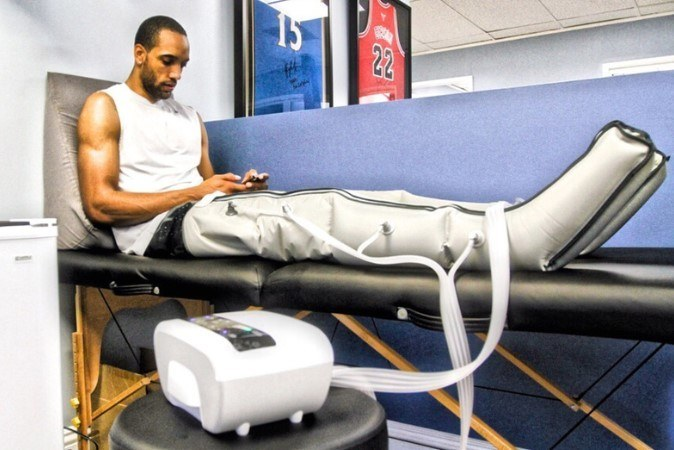chair: (107, 388, 388, 450)
handle: (9, 249, 38, 265)
operating_bed: (42, 69, 674, 450)
patient: (77, 16, 667, 275)
sequential_compression: (149, 121, 669, 450)
